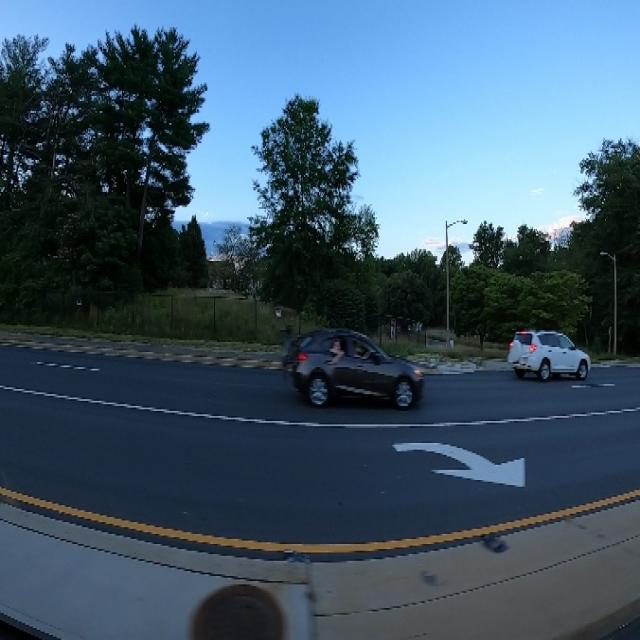cars: (286, 318, 427, 413), (508, 315, 590, 390)
